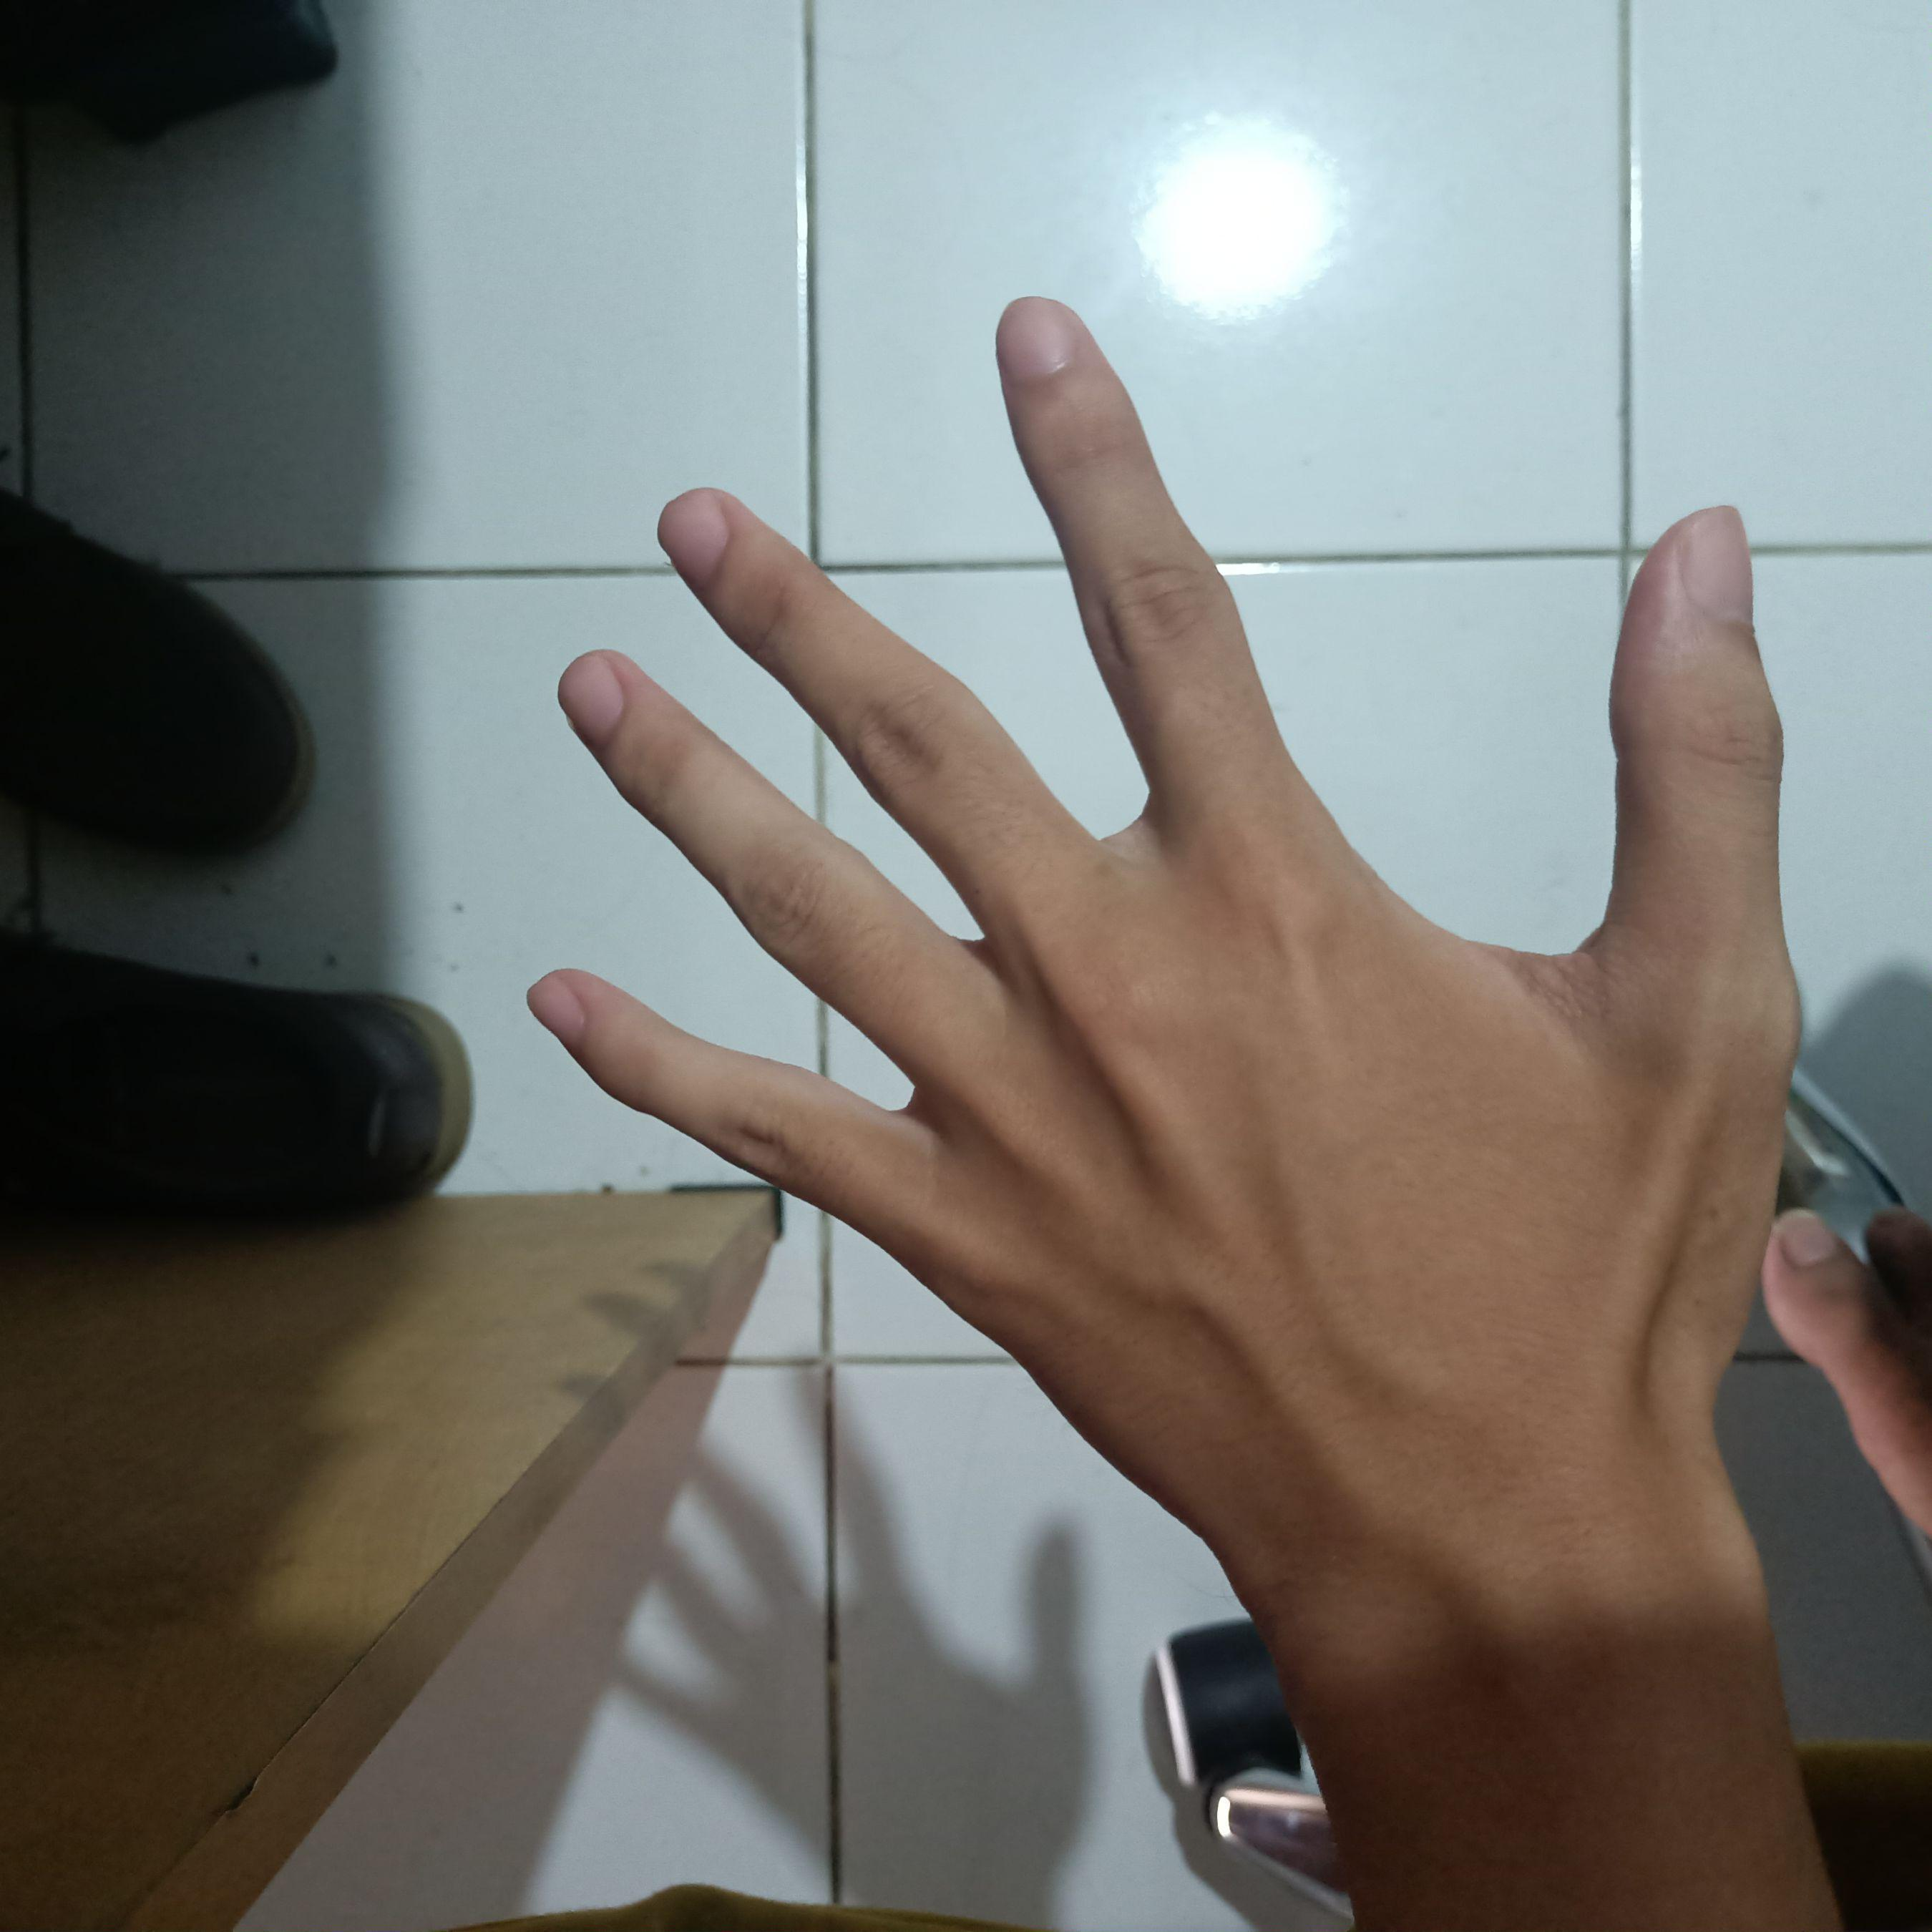paper: (501, 280, 1808, 1615)
